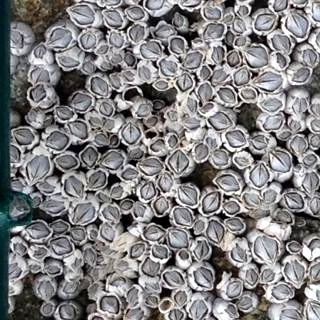Barnacle: (25, 151, 50, 183), (253, 236, 279, 263), (286, 12, 310, 37), (252, 71, 283, 90), (283, 259, 306, 284), (69, 3, 95, 25), (64, 174, 86, 199), (73, 202, 98, 223), (48, 28, 73, 49), (270, 149, 292, 172), (168, 150, 189, 174), (246, 46, 270, 67), (121, 121, 143, 143), (251, 162, 270, 187), (24, 221, 50, 239), (216, 174, 242, 192), (138, 157, 164, 175), (209, 112, 235, 130), (102, 151, 125, 170), (70, 93, 93, 112), (202, 21, 225, 40), (168, 228, 189, 248), (179, 186, 199, 207), (80, 146, 100, 167), (89, 77, 110, 97), (202, 191, 221, 213), (47, 130, 69, 149), (98, 295, 121, 313), (302, 172, 319, 196), (285, 190, 305, 210), (68, 119, 88, 139), (190, 298, 209, 319), (50, 237, 71, 256), (144, 225, 167, 242), (207, 219, 224, 242), (140, 40, 163, 57), (194, 267, 213, 287), (103, 11, 124, 29), (173, 207, 193, 225), (88, 170, 108, 188), (256, 13, 276, 31), (43, 198, 65, 214), (56, 153, 78, 169), (227, 130, 246, 148), (8, 29, 25, 49), (272, 33, 290, 51), (80, 31, 98, 49), (143, 257, 160, 276), (31, 65, 50, 82), (57, 55, 80, 69), (14, 129, 35, 144), (160, 59, 178, 76), (184, 51, 202, 68), (165, 270, 184, 286), (263, 114, 282, 130), (234, 66, 249, 86), (303, 49, 318, 69), (280, 306, 303, 319), (226, 280, 242, 298), (244, 192, 262, 208), (291, 135, 307, 153), (272, 285, 294, 298), (38, 279, 53, 298), (218, 88, 237, 103), (195, 239, 209, 259), (155, 195, 169, 215), (155, 24, 175, 38), (30, 85, 46, 102), (59, 304, 77, 319), (252, 135, 270, 150), (178, 72, 193, 90), (110, 31, 125, 49), (130, 23, 145, 41), (127, 5, 146, 19), (262, 98, 282, 111), (212, 151, 228, 167), (232, 244, 247, 261), (101, 223, 116, 240), (103, 205, 120, 220), (294, 67, 311, 82), (182, 115, 200, 129), (200, 81, 212, 102), (204, 5, 222, 19), (50, 221, 69, 234), (142, 180, 155, 199), (238, 295, 254, 310), (152, 244, 169, 258), (213, 67, 230, 81), (245, 267, 258, 285), (160, 172, 172, 191), (9, 144, 21, 163), (264, 188, 279, 203), (123, 166, 138, 181), (224, 200, 240, 214), (170, 37, 184, 53), (233, 17, 247, 33), (212, 46, 225, 63), (38, 181, 56, 193), (55, 107, 73, 119), (262, 267, 276, 282), (6, 263, 20, 278), (131, 243, 145, 258), (10, 179, 25, 193), (120, 68, 135, 82), (138, 66, 152, 81), (275, 51, 288, 67), (127, 307, 144, 319), (84, 248, 96, 265), (227, 218, 244, 230), (309, 262, 319, 282), (138, 102, 152, 116), (151, 138, 166, 151), (294, 98, 307, 113), (241, 86, 256, 99), (227, 51, 240, 66), (34, 43, 47, 58), (134, 202, 146, 218), (195, 143, 207, 159), (175, 290, 187, 305), (71, 228, 86, 240), (200, 65, 212, 80), (273, 0, 288, 12), (146, 0, 166, 9), (128, 286, 139, 302), (25, 108, 38, 121), (100, 102, 113, 115), (64, 282, 78, 294), (303, 153, 317, 165), (110, 73, 121, 88), (276, 211, 292, 221), (14, 242, 27, 254), (112, 185, 124, 198), (94, 133, 108, 144), (33, 246, 48, 256), (226, 304, 238, 316), (113, 276, 125, 288), (188, 96, 197, 112), (238, 4, 250, 16), (170, 308, 183, 319), (89, 115, 102, 126), (84, 60, 95, 73), (146, 282, 160, 292), (174, 12, 184, 26), (311, 197, 319, 214), (235, 156, 250, 165), (147, 296, 159, 307), (194, 220, 205, 232), (31, 195, 42, 207), (98, 191, 110, 202), (290, 119, 301, 131), (125, 53, 136, 65), (72, 257, 82, 270), (288, 242, 301, 252), (309, 238, 319, 251), (202, 104, 215, 114), (47, 265, 61, 274), (155, 79, 169, 88), (146, 116, 158, 126), (167, 109, 177, 121), (208, 136, 217, 149), (311, 102, 319, 116), (227, 30, 235, 44), (42, 303, 53, 313), (104, 119, 115, 129), (98, 44, 109, 54), (310, 119, 319, 131), (80, 279, 90, 289), (89, 285, 98, 296), (311, 135, 319, 147), (169, 134, 177, 146), (123, 200, 133, 209), (110, 135, 119, 145), (103, 61, 113, 70), (223, 14, 233, 23), (280, 131, 291, 139), (154, 101, 165, 109), (105, 246, 115, 254), (113, 54, 123, 62), (180, 251, 189, 259), (8, 285, 15, 295)
